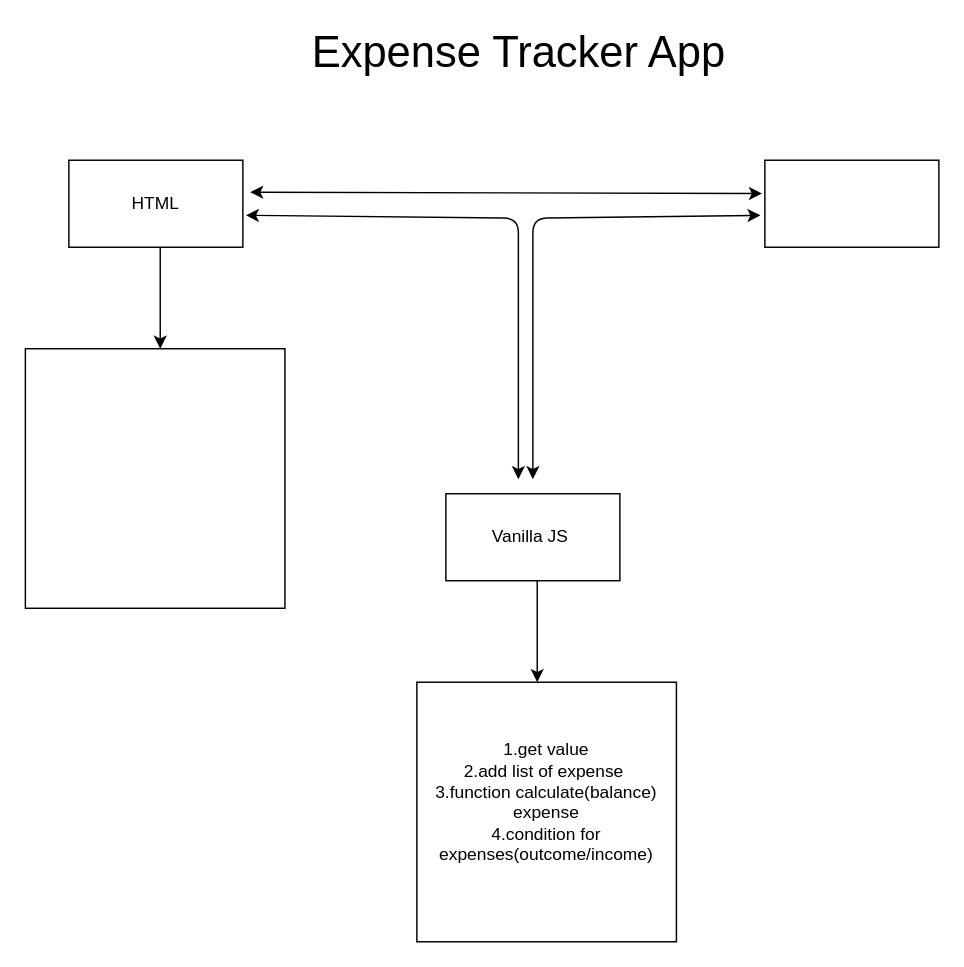
The diagram is 964 pixels wide and 967 high, and some of its shapes have lost their labels. The centre of each missing label's shape, as x and y in pixels:
1.Headings 2. Textbox 3.UL 4.Submit Button: point 154,477
Bootstrap CSS: point 851,203
